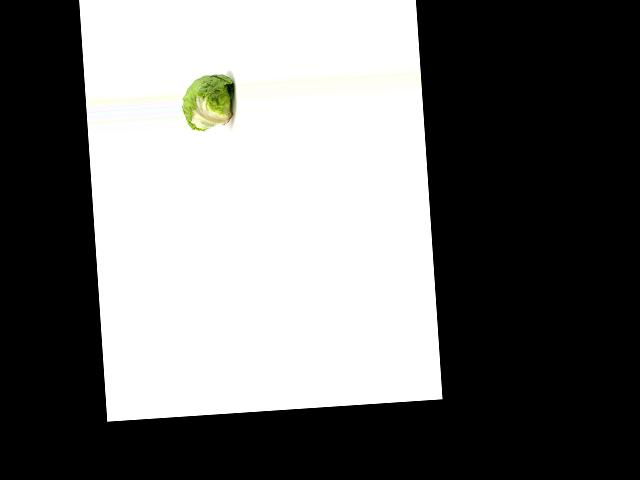lettuce: (180, 71, 239, 133)
